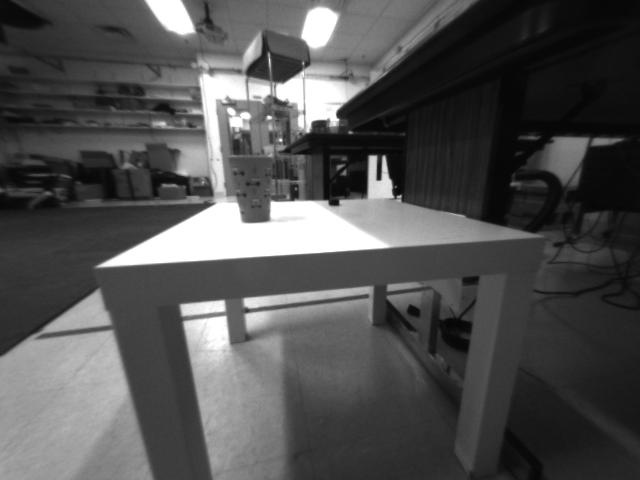coffee_cup: (227, 154, 283, 222)
